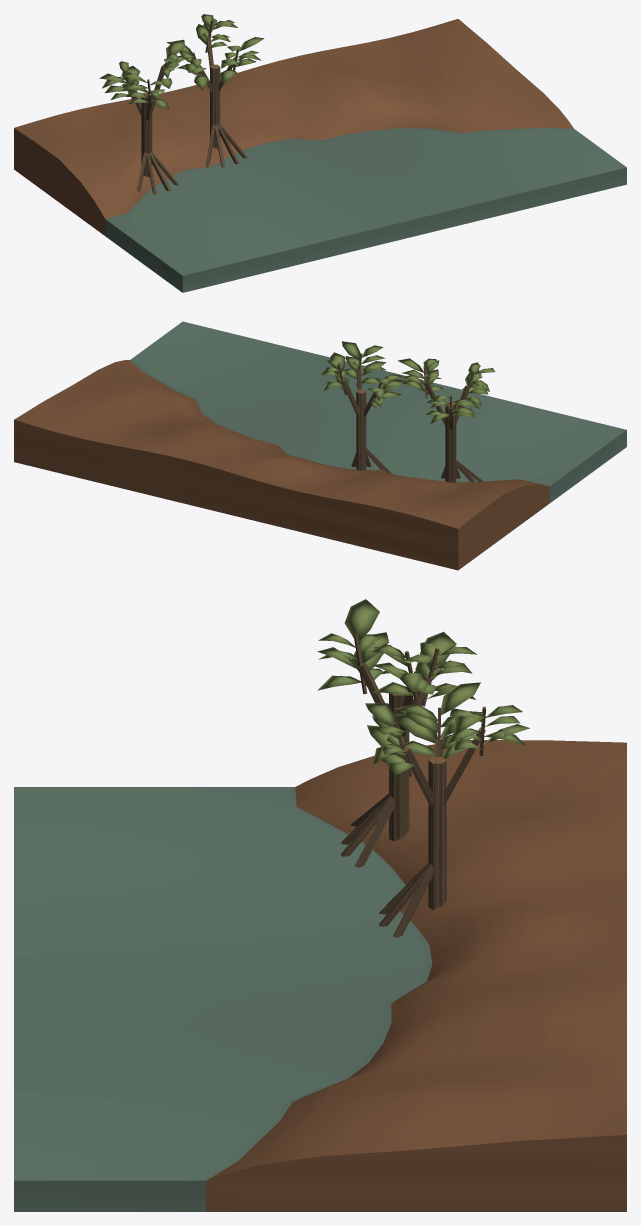
The picture shows the model from 3 angles, top to bottom: view 1: azimuth 30°, elevation 25°; view 2: azimuth 150°, elevation 25°; view 3: azimuth 270°, elevation 25°; orthographic projection. The views are drawn at different scales.
Visible parts, largest first — view 1: lagos; view 2: lagos; view 3: lagos.
Boxes of the visible parts, left/top/right/bottom form: lagos: left=14, top=14, right=626, bottom=292; lagos: left=14, top=321, right=626, bottom=570; lagos: left=14, top=599, right=626, bottom=1211.
Size of the model in its own units: 7.6 by 2.31 by 5.
Materials: 1 (1 with a texture image).
